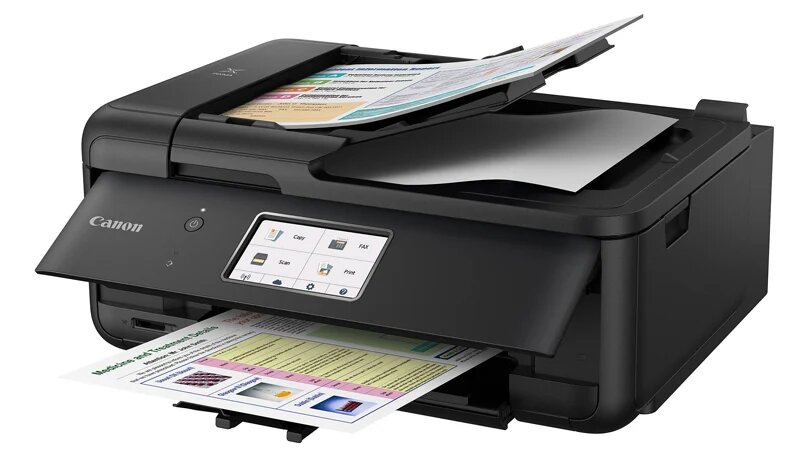printer: (52, 33, 771, 434)
